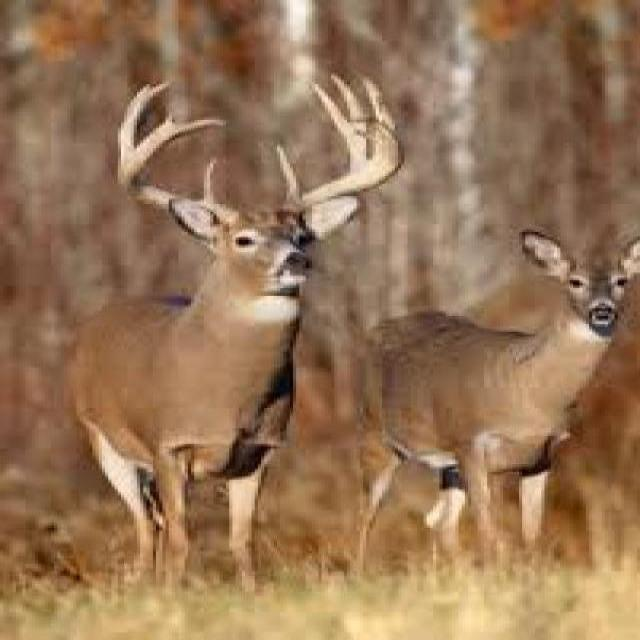deer: (73, 73, 401, 586), (370, 233, 640, 572)
